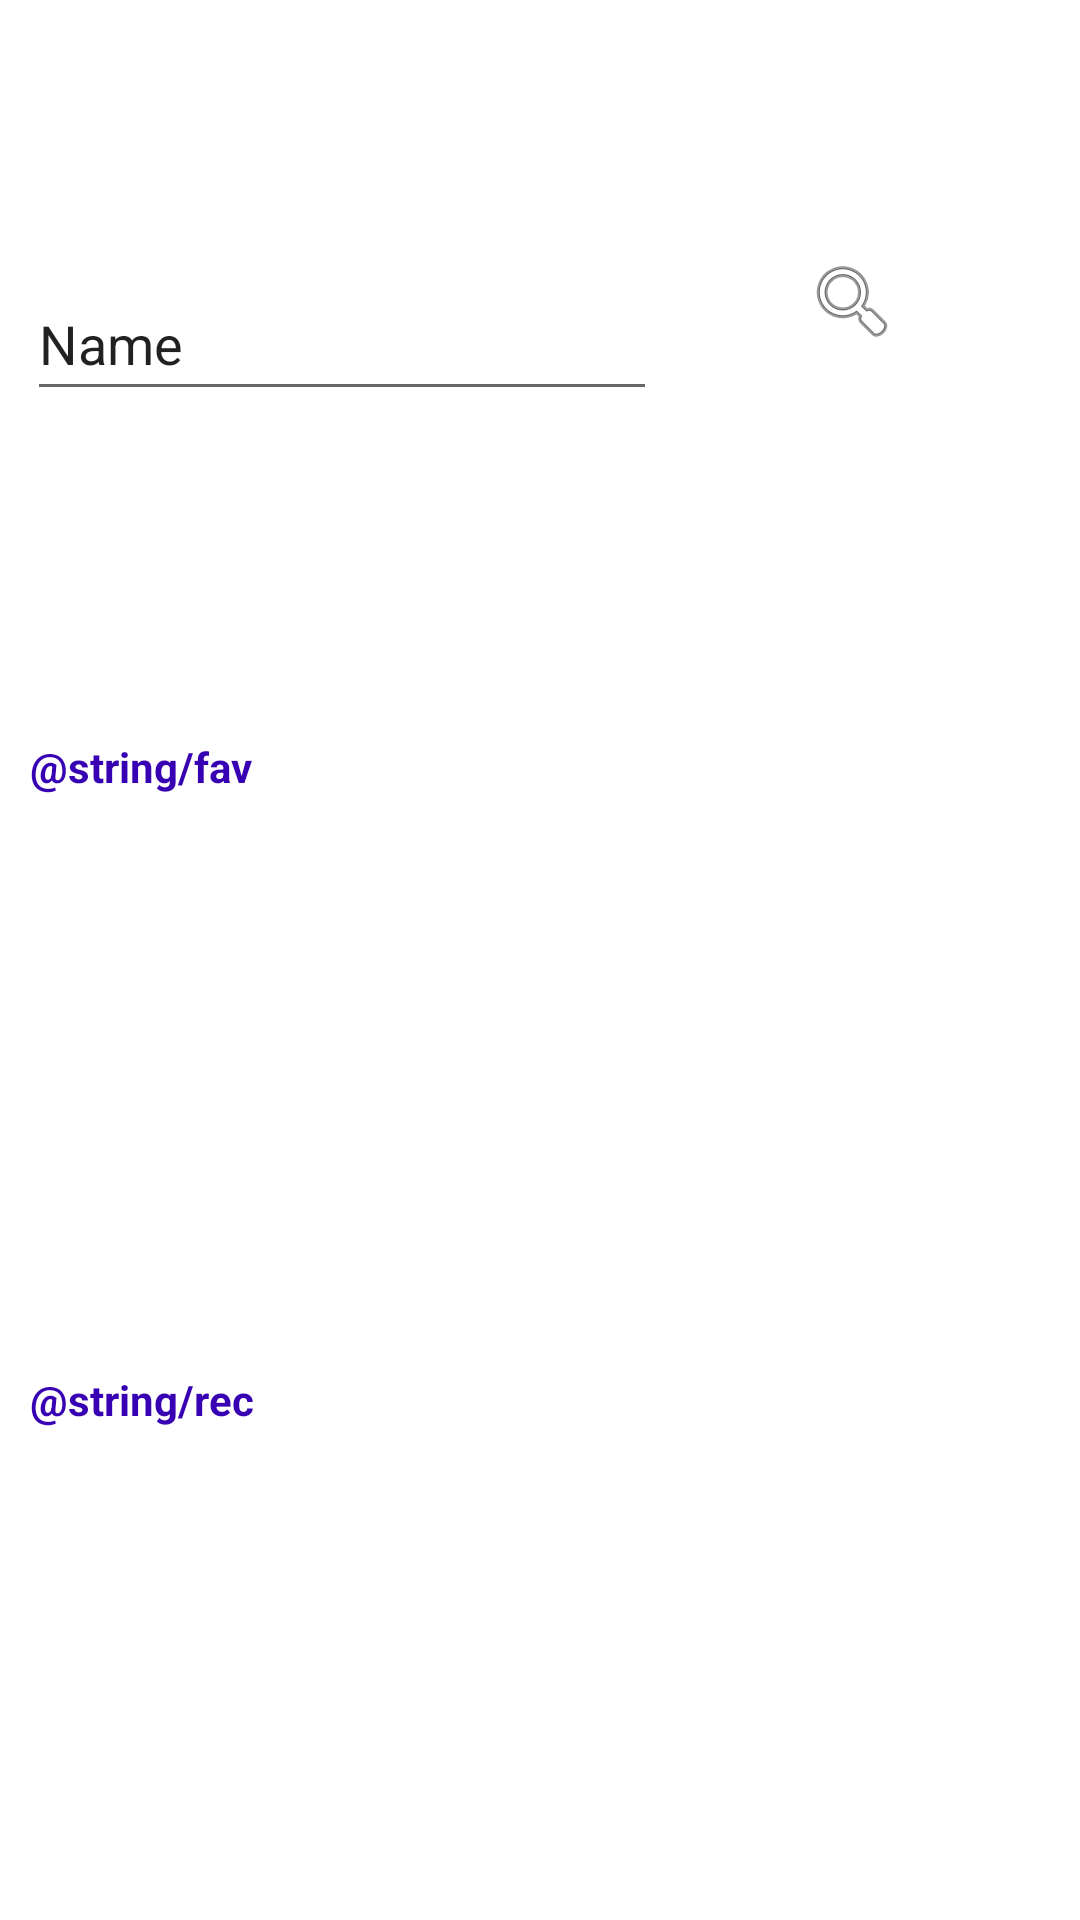

Screen size 1080*1920. Icon name, then its box in pixels as (x1, y1, x2, y2):
search: (816, 266, 888, 337)
